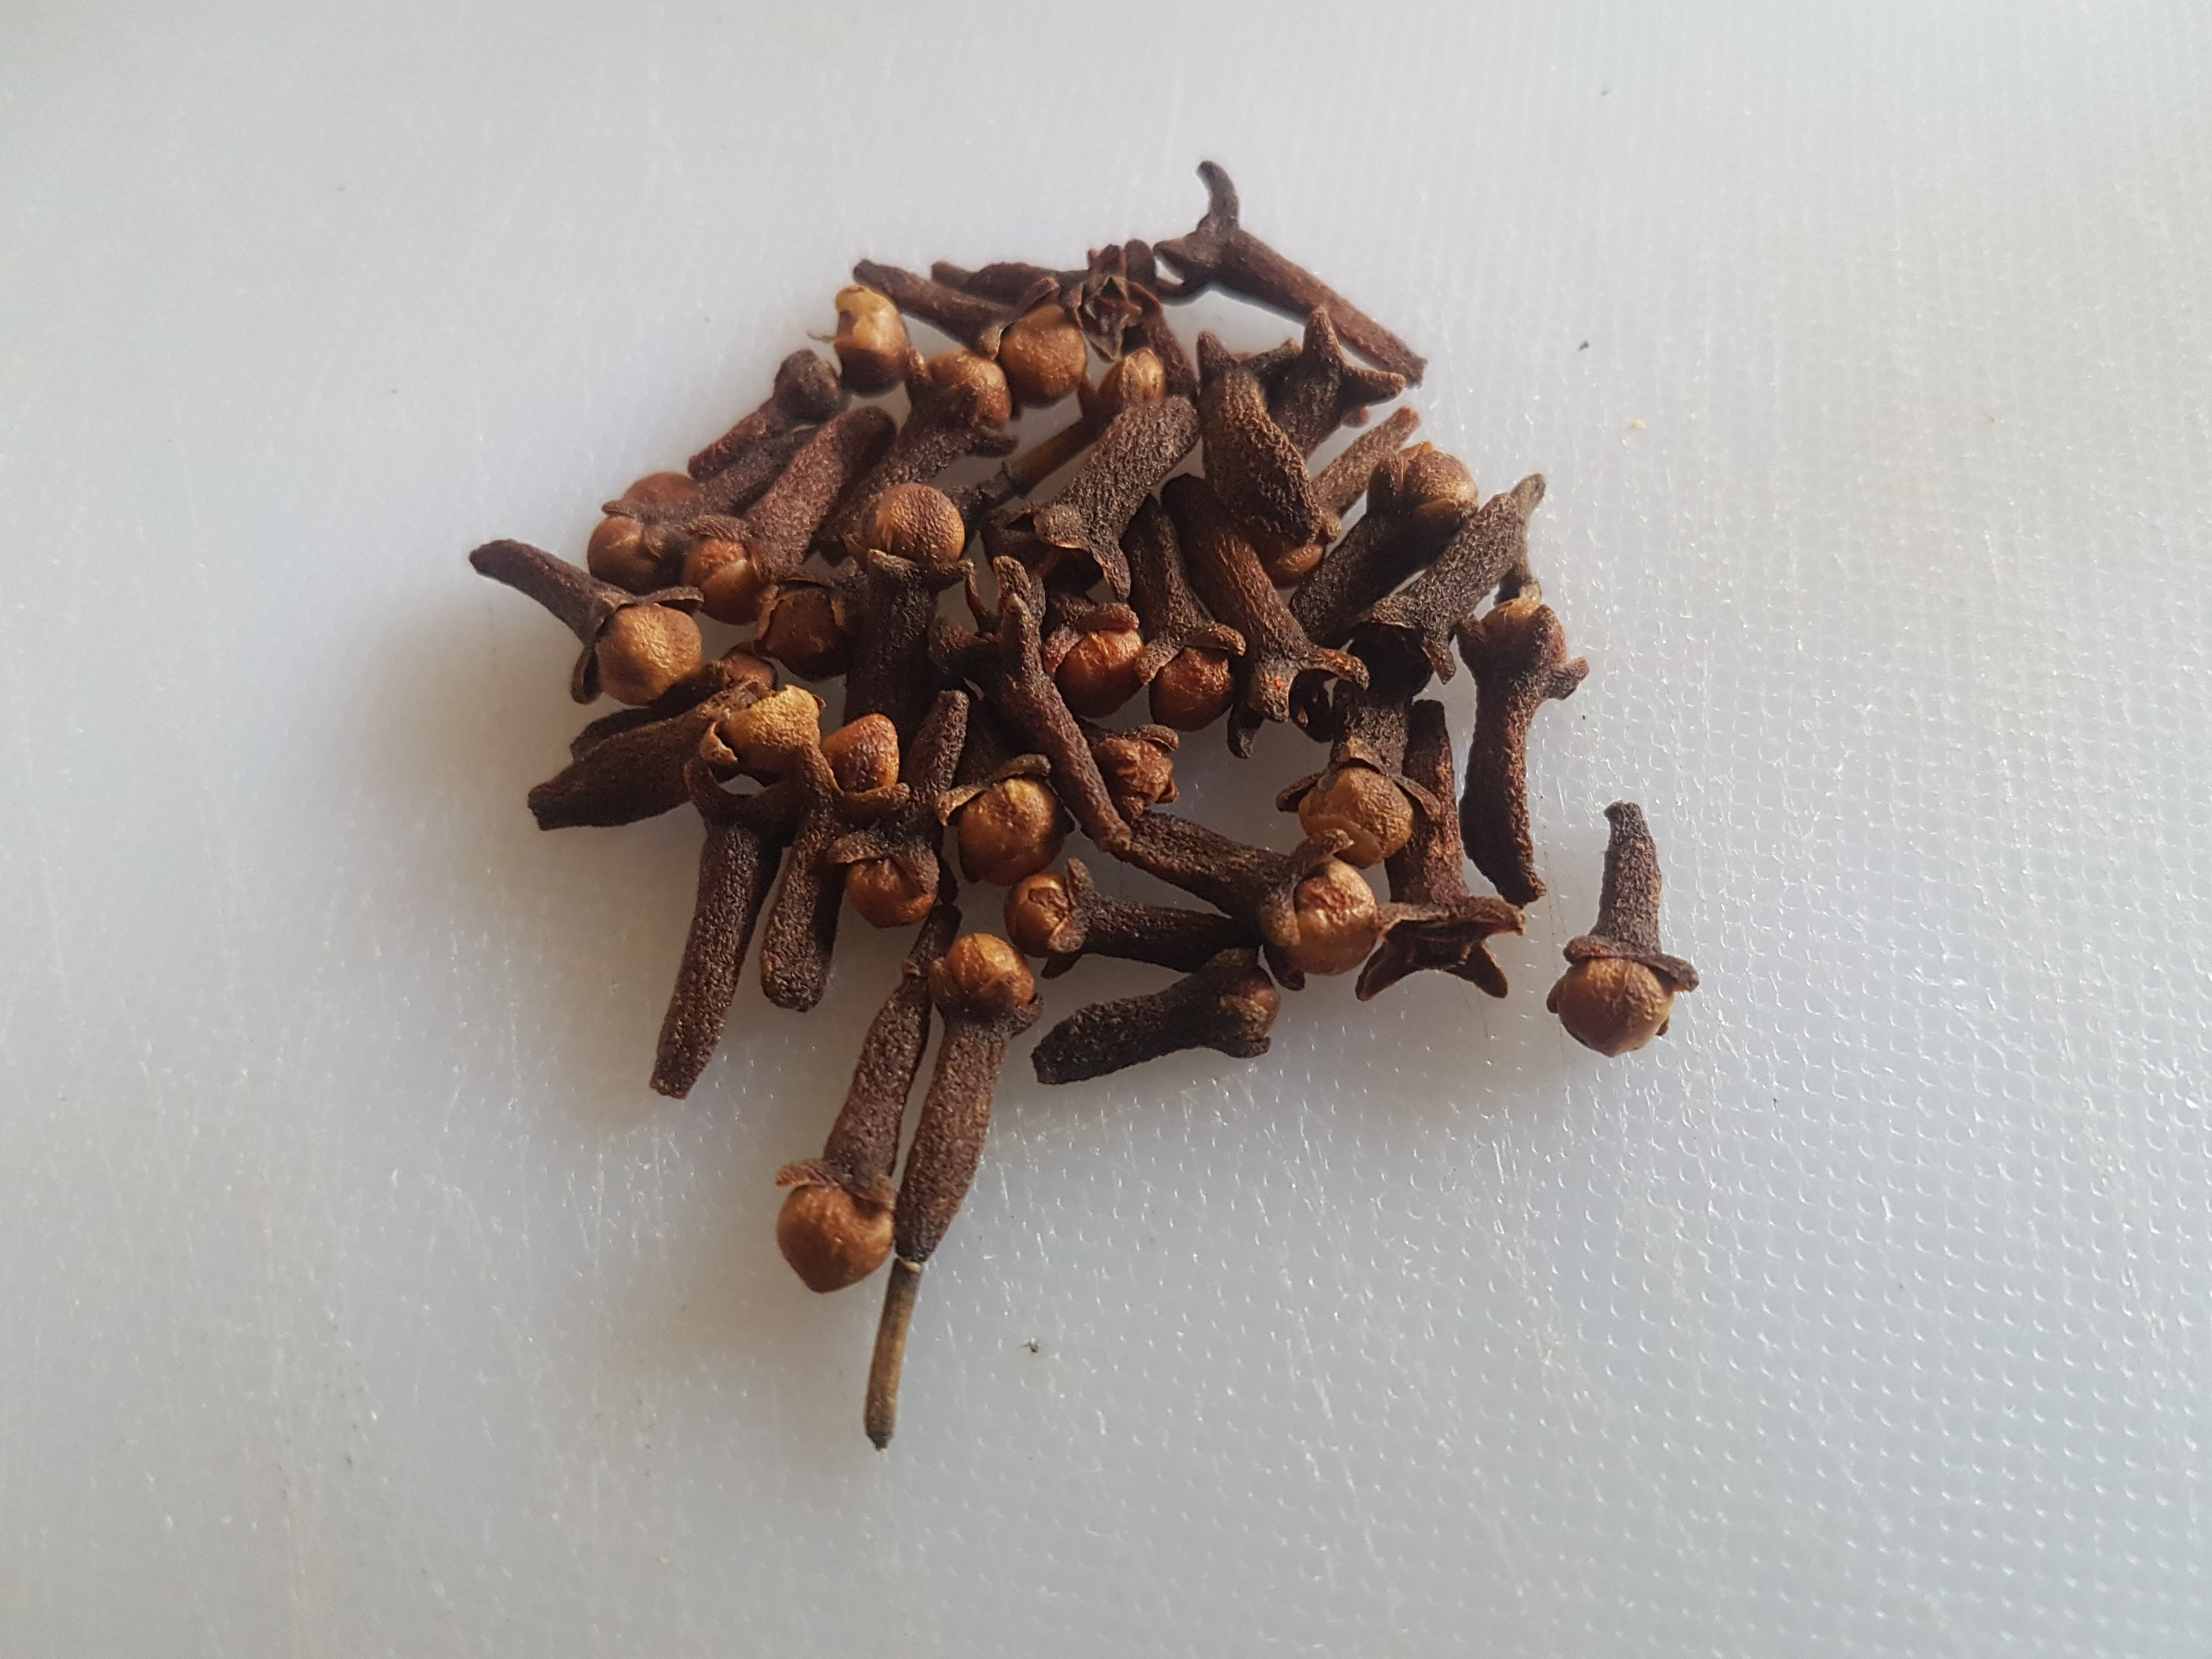Cloves: (472, 145, 1698, 1448)
